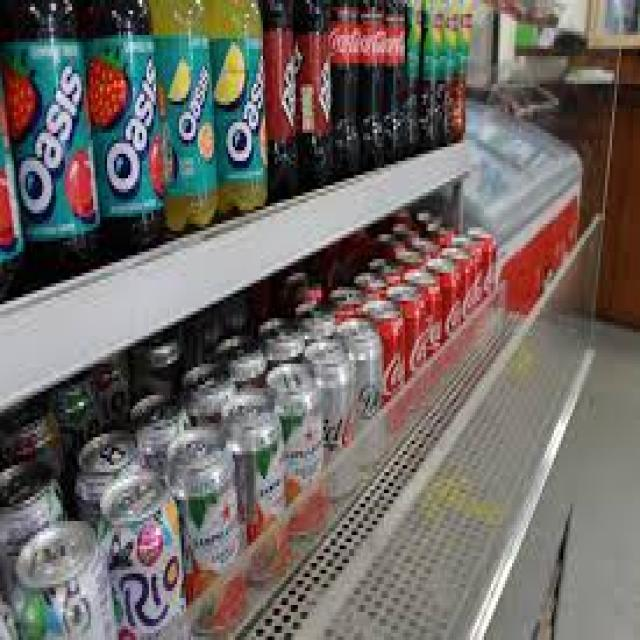Cans: (95, 472, 184, 633), (170, 433, 242, 594)
